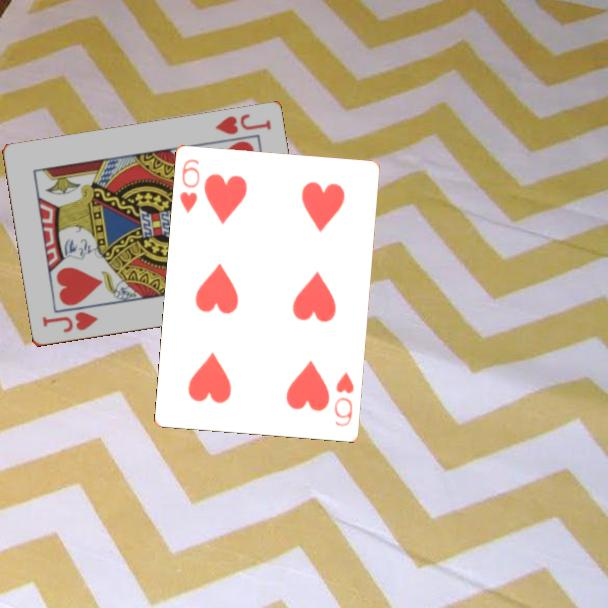h06: (176, 156, 203, 216), (331, 368, 357, 430)
h11: (211, 111, 274, 138), (39, 309, 101, 336)
